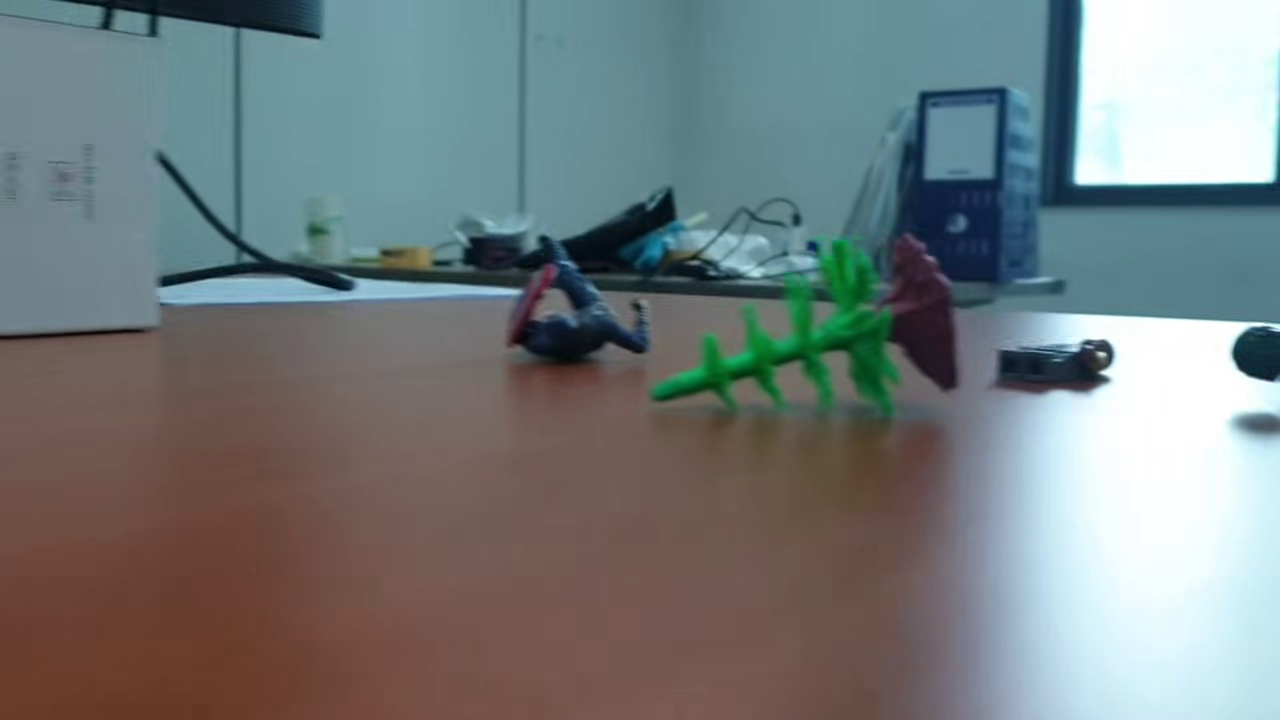people: (503, 232, 658, 368), (993, 334, 1117, 393)
tree: (647, 230, 960, 415)
